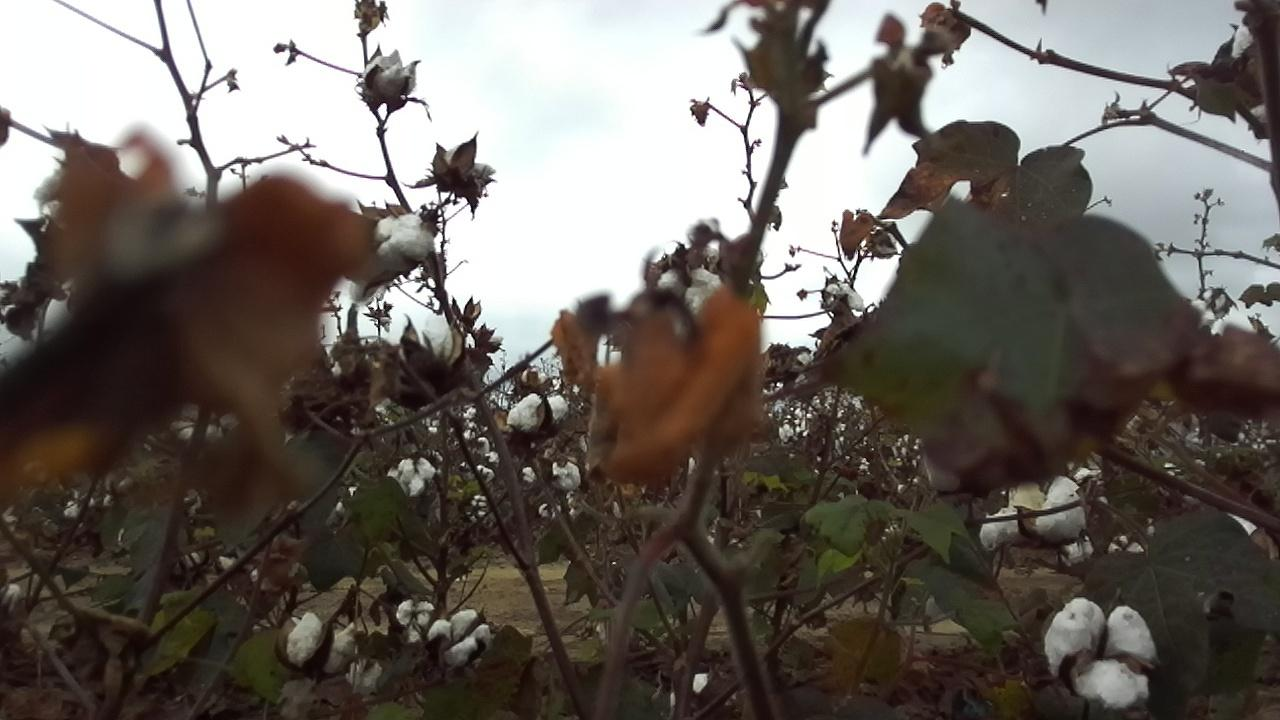cotton_ready: (1044, 599, 1160, 708), (352, 212, 432, 303), (1233, 20, 1280, 131), (291, 610, 362, 679), (1034, 469, 1102, 541), (660, 270, 724, 332), (979, 491, 1040, 555), (429, 610, 499, 664), (364, 50, 419, 103), (668, 673, 738, 711), (409, 315, 462, 363), (508, 392, 567, 431), (442, 148, 493, 187), (394, 602, 433, 643), (395, 458, 438, 495), (33, 171, 63, 221)
